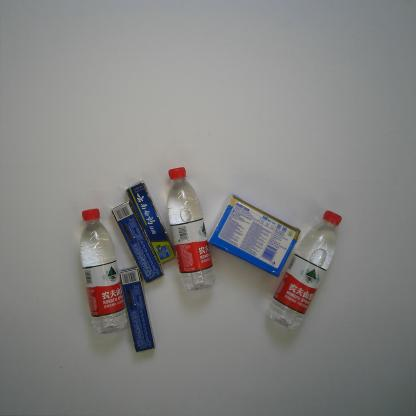Drink: (264, 210, 344, 331), (75, 207, 129, 337), (164, 165, 216, 293)
Personal Hygiene: (124, 178, 178, 265), (111, 200, 165, 285), (117, 267, 156, 355)
Tissue: (204, 192, 303, 278)
